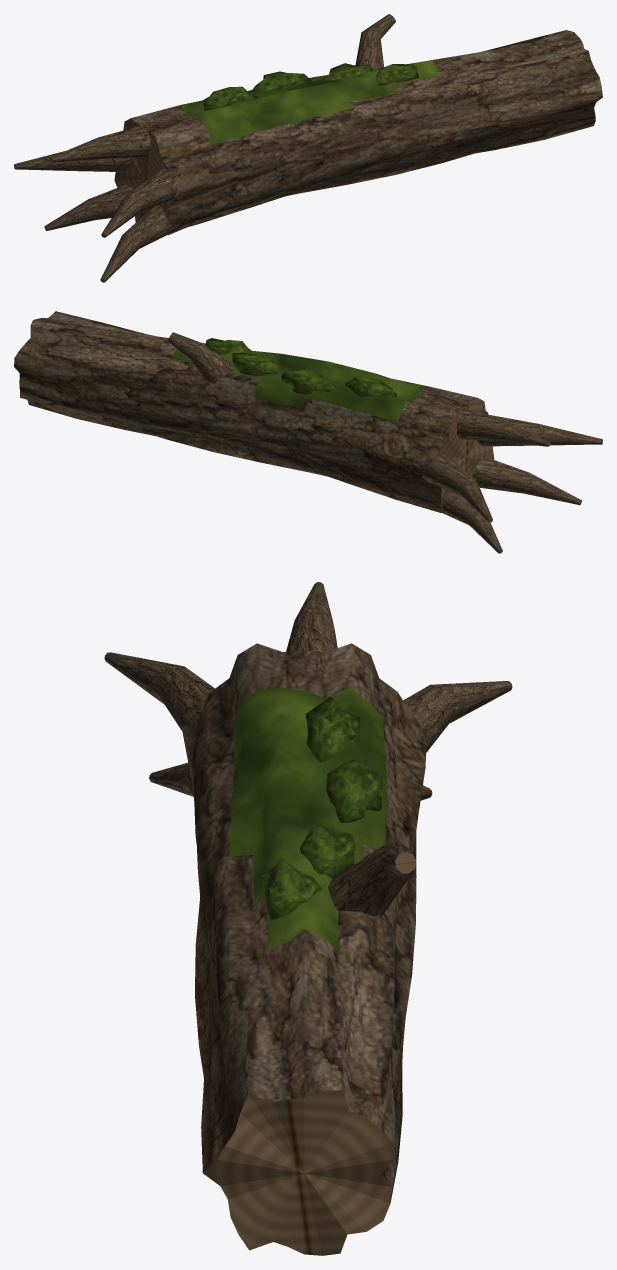
The model's file is fallen_log.fbx.
3 renders of one model, top to bottom at view 1: azimuth 30°, elevation 25°; view 2: azimuth 150°, elevation 25°; view 3: azimuth 270°, elevation 25°, orthographic. The views are drawn at different scales.
Visible parts, largest first — view 1: fallen_log; view 2: fallen_log; view 3: fallen_log.
Boxes of the visible parts, x1,y1,x2,y2 form: fallen_log: (14,14,602,282); fallen_log: (14,311,602,553); fallen_log: (104,582,512,1255).
Size of what is drawn, in the model's own units: 2.71 by 0.6788 by 0.9247.
Materials: 1 (1 with a texture image).
